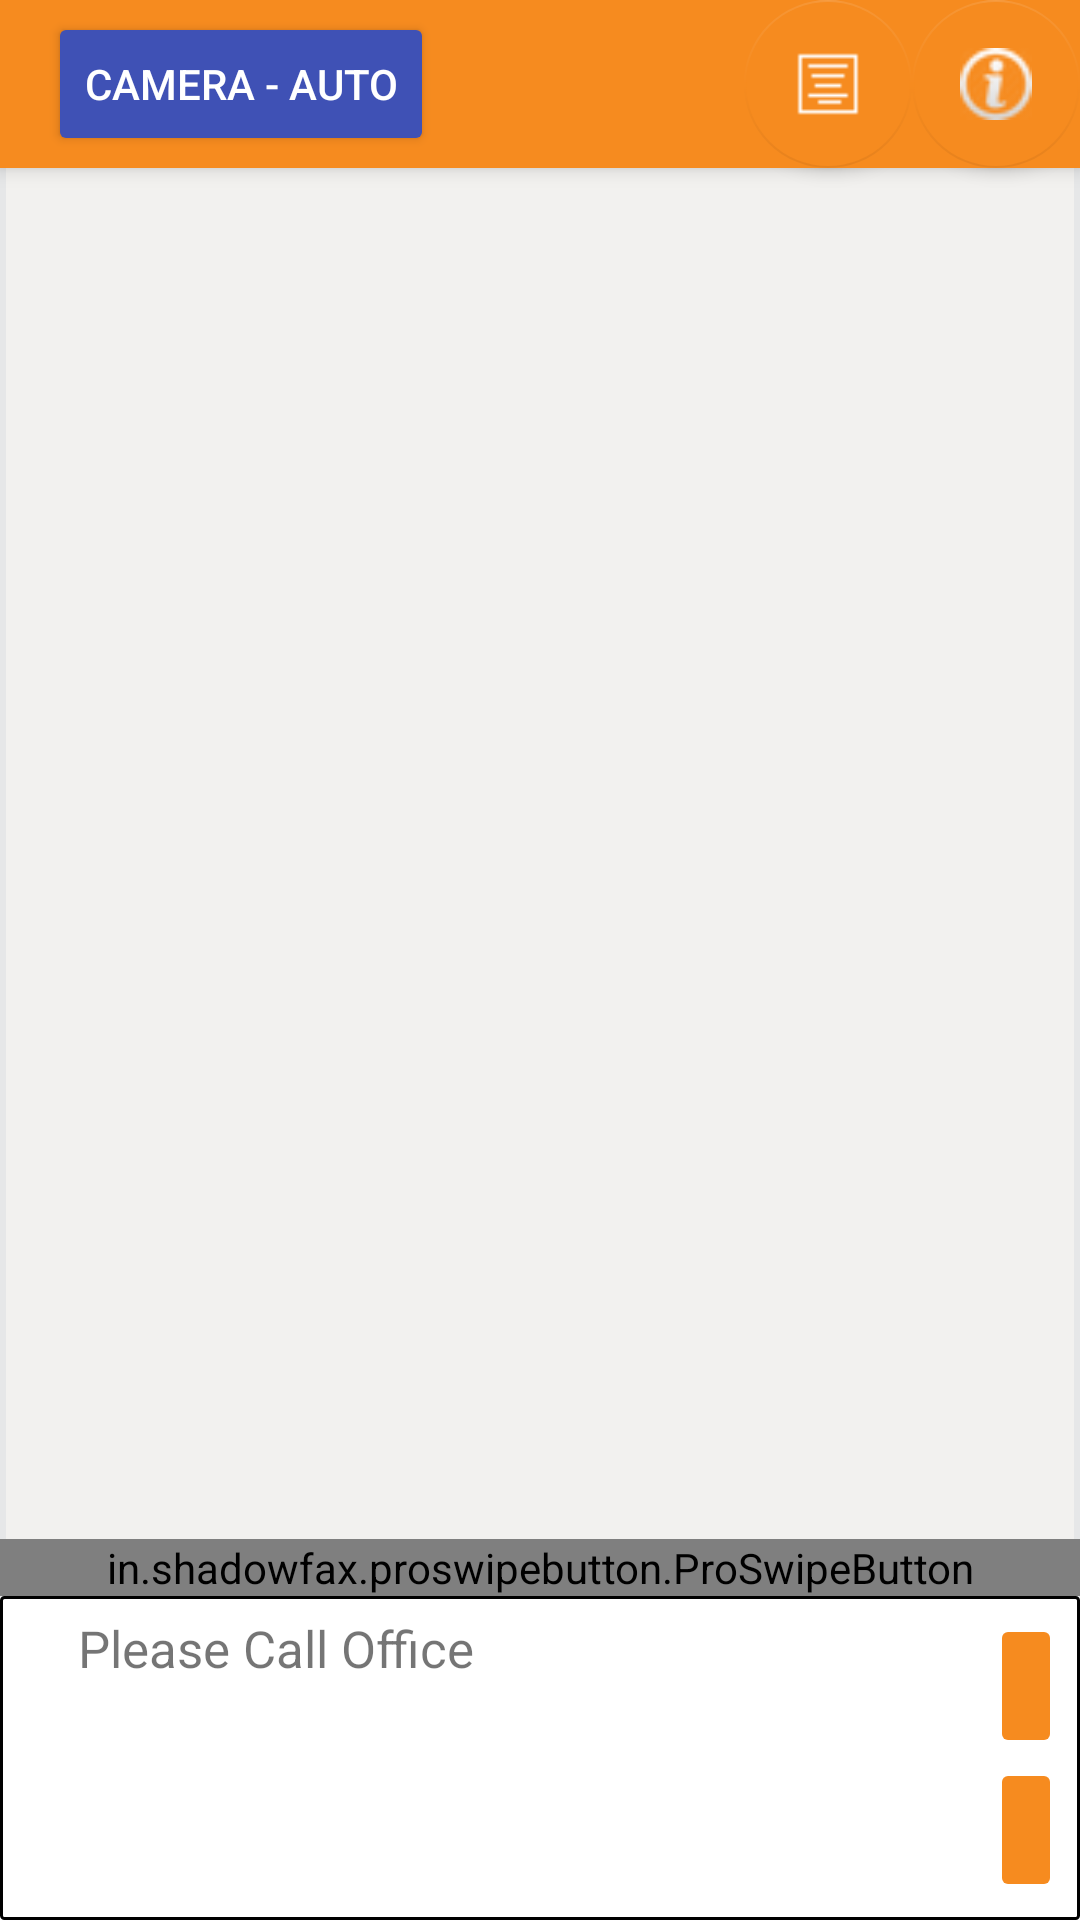

Named icons in this screenshot (1080*1920) and their bounding boxes, (x1=x1, y1=y1, x2=x2, y2=y2):
info: (x1=960, y1=0, x2=1032, y2=120)
sheet: (x1=797, y1=0, x2=859, y2=115)
